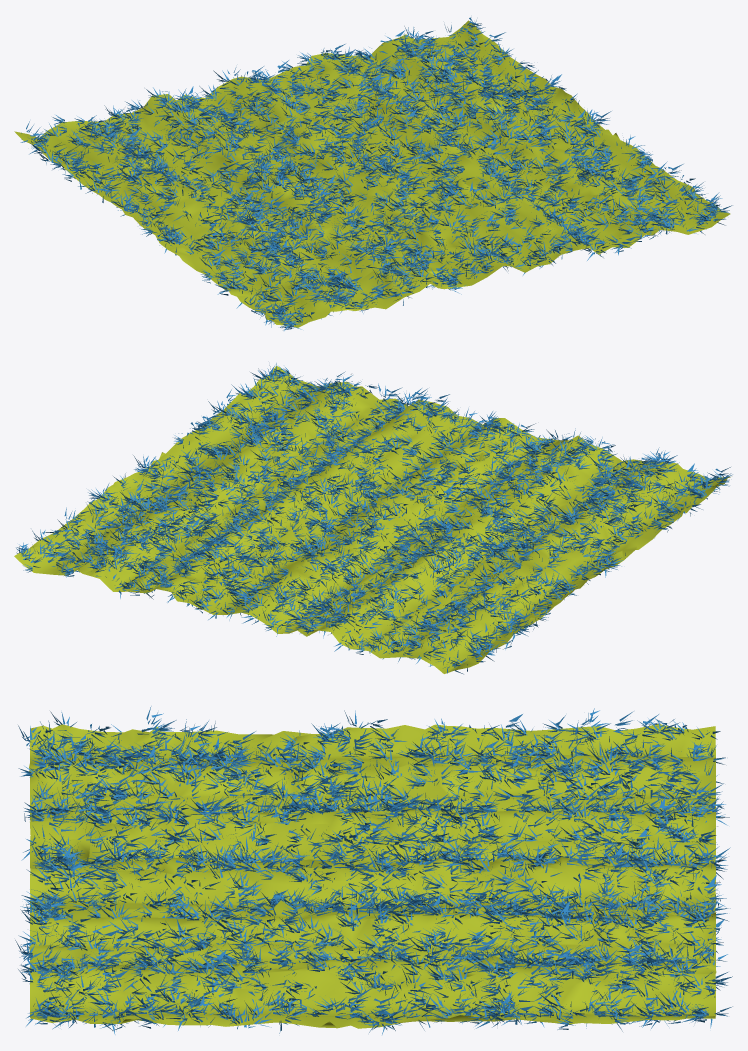
Rendered from GreenLawnPatch.fbx.
3 views of the same model, one above another, from view 1: azimuth 30°, elevation 25°; view 2: azimuth 150°, elevation 25°; view 3: azimuth 270°, elevation 25° (orthographic). The views are drawn at different scales.
Visible parts, largest first — view 1: GreenLawnPatch; view 2: GreenLawnPatch; view 3: GreenLawnPatch.
Part boxes in pixels (x1,y1,x2,y2): GreenLawnPatch: (14, 17, 732, 330); GreenLawnPatch: (14, 363, 732, 674); GreenLawnPatch: (15, 706, 732, 1034).
Bounding box in the file's own units: 21289 × 1388 × 20997.
